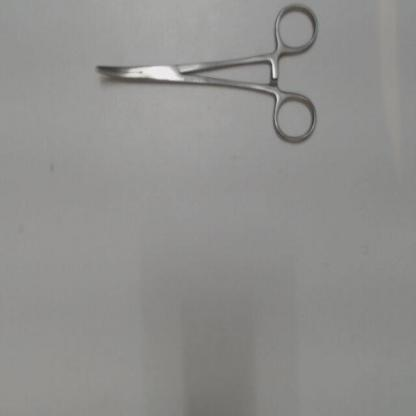Crile Artery Forceps: (88, 3, 327, 154)
